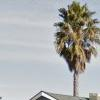Palm tree: (46, 2, 94, 92)
